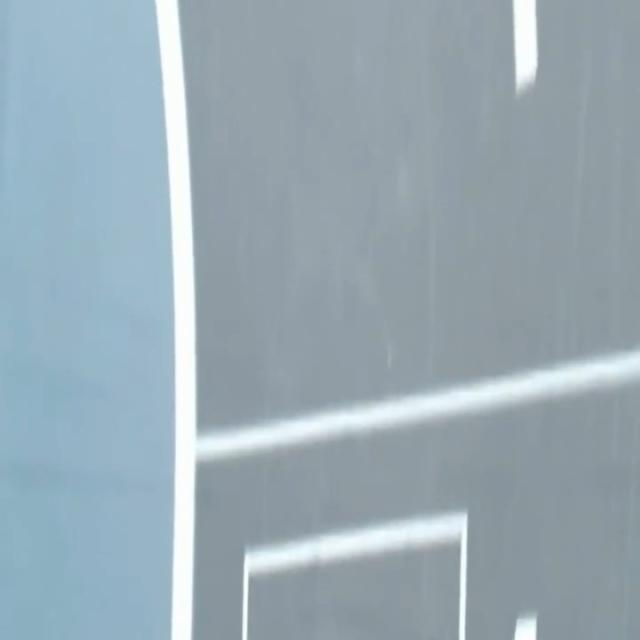center: (512, 0, 536, 95), (514, 613, 536, 639)
left: (156, 0, 196, 639)
